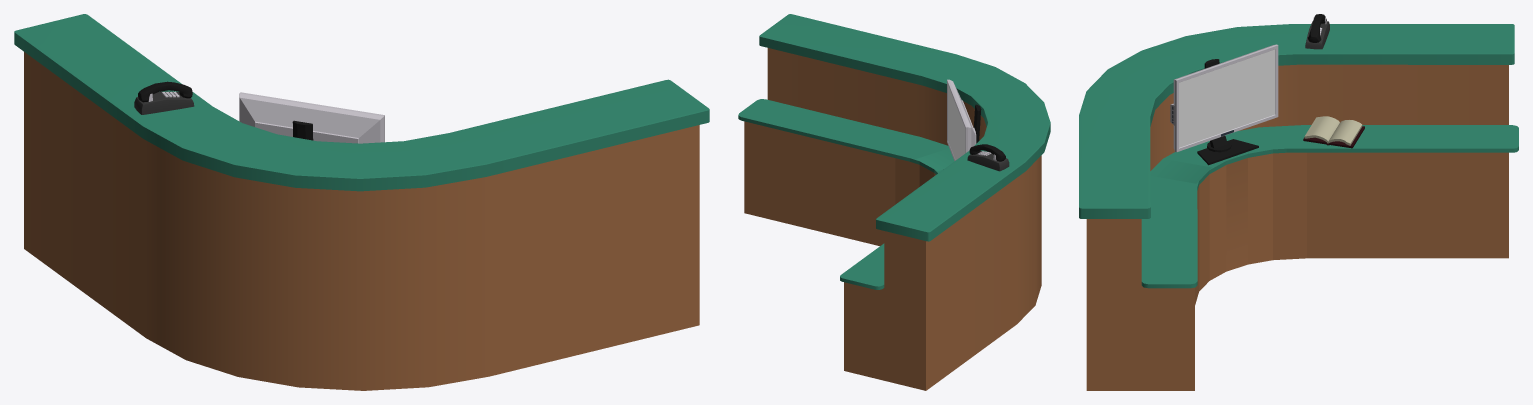
Rendered from Corner.fbx.
The picture shows the model from 3 angles, left to right: view 1: azimuth 30°, elevation 25°; view 2: azimuth 150°, elevation 25°; view 3: azimuth 270°, elevation 25°; orthographic projection. The views are drawn at different scales.
Parts seen in each view (by area): view 1: Reception, Monitor_01.003, curve3.011; view 2: Reception, Monitor_01.003, curve3.011; view 3: Reception, Monitor_01.003, Textured.002, curve3.011.
Boxes of the visible parts, x1,y1,x2,y2 form: Reception: (14, 14, 709, 390); Monitor_01.003: (239, 92, 384, 143); curve3.011: (134, 81, 194, 114); Reception: (738, 14, 1050, 390); Monitor_01.003: (947, 79, 981, 160); curve3.011: (967, 144, 1009, 171); Reception: (1079, 24, 1518, 390); Monitor_01.003: (1170, 44, 1278, 165); Textured.002: (1303, 116, 1364, 148); curve3.011: (1305, 14, 1329, 49).
Bounding box in the file's own units: 417 × 215 × 417.
